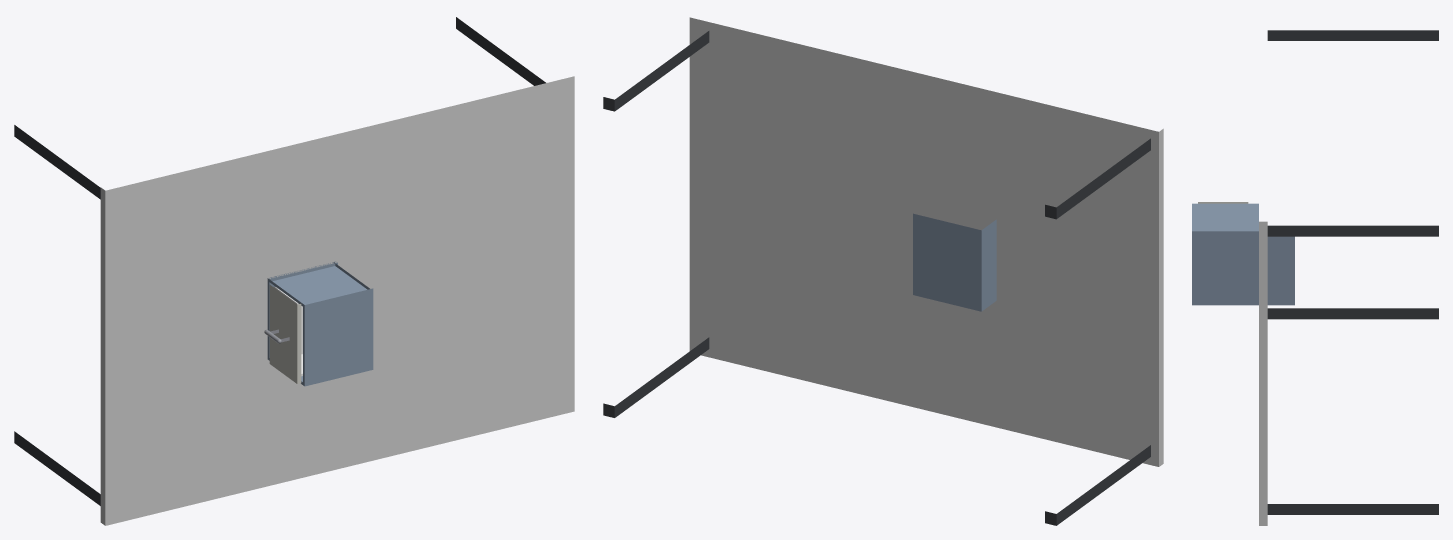
The picture shows the model from 3 angles, left to right: view 1: azimuth 30°, elevation 25°; view 2: azimuth 150°, elevation 25°; view 3: azimuth 270°, elevation 25°; orthographic projection. The views are drawn at different scales.
Parts seen in each view (by area): view 1: s0, s1, s2; view 2: s0, s1; view 3: s0, s1.
Boxes of the visible parts, box(x1,y1,x2,y2) form: s0: box(14, 17, 574, 525); s1: box(267, 261, 373, 386); s2: box(264, 285, 302, 383); s0: box(603, 17, 1163, 525); s1: box(913, 213, 996, 311); s0: box(1259, 30, 1438, 525); s1: box(1192, 203, 1294, 305).
Size of the model in its own units: 2.05 by 1.4 by 1.03.
